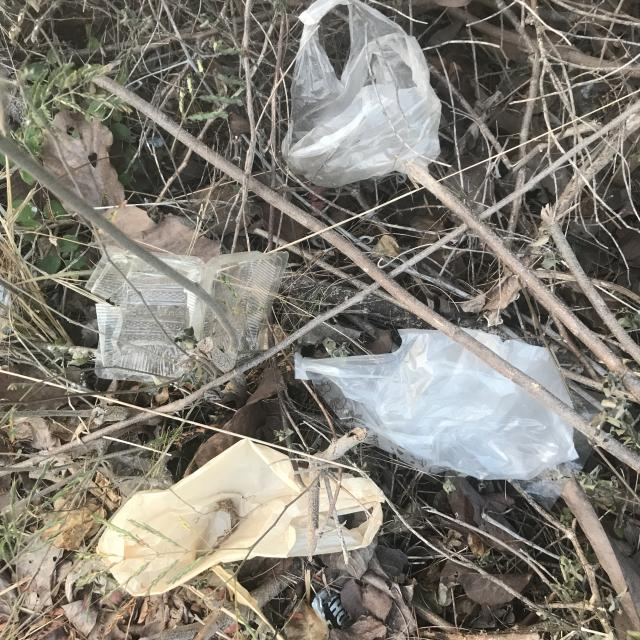Single-layer Plastic: (96, 439, 384, 595), (295, 329, 578, 480), (282, 0, 441, 188), (465, 329, 572, 405)
